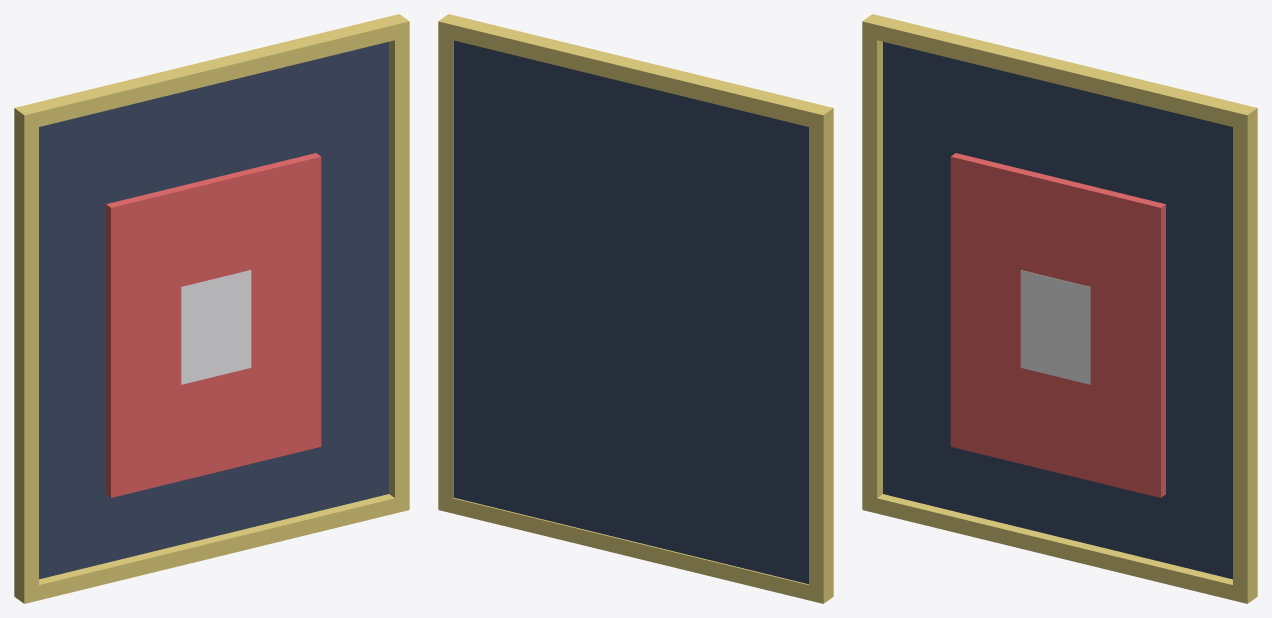
Rendered from jersey.glb.
3 views of the same model, side by side, from view 1: azimuth 30°, elevation 25°; view 2: azimuth 150°, elevation 25°; view 3: azimuth 330°, elevation 25° (orthographic).
Visible parts, largest first — view 1: Backboard, JerseyBody, FrameLeft, Frame, FrameRight, FrameBottom; view 2: Backboard, FrameLeft, Frame, FrameRight, FrameBottom; view 3: Backboard, JerseyBody, FrameRight, Frame, FrameLeft, FrameBottom.
Part boxes in pixels (<box>): Backboard: <box>39,41,388,579</box>; JerseyBody: <box>106,153,321,497</box>; FrameLeft: <box>14,123,38,588</box>; Frame: <box>14,14,409,130</box>; FrameRight: <box>389,36,409,498</box>; FrameBottom: <box>14,494,409,603</box>; Backboard: <box>453,40,808,584</box>; FrameLeft: <box>809,123,833,588</box>; Frame: <box>438,14,833,130</box>; FrameRight: <box>438,36,453,498</box>; FrameBottom: <box>438,495,833,603</box>; Backboard: <box>883,41,1232,579</box>; JerseyBody: <box>950,153,1165,497</box>; FrameRight: <box>1233,123,1257,588</box>; Frame: <box>862,14,1257,130</box>; FrameLeft: <box>862,36,882,498</box>; FrameBottom: <box>862,494,1257,603</box>.
Size of the model in its own units: 1.32 by 1.6 by 0.06.
